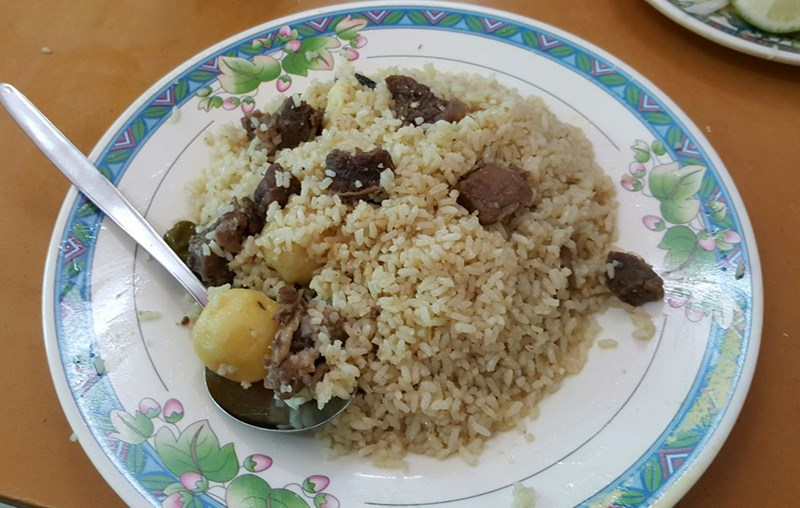tehari: (173, 64, 665, 466)
